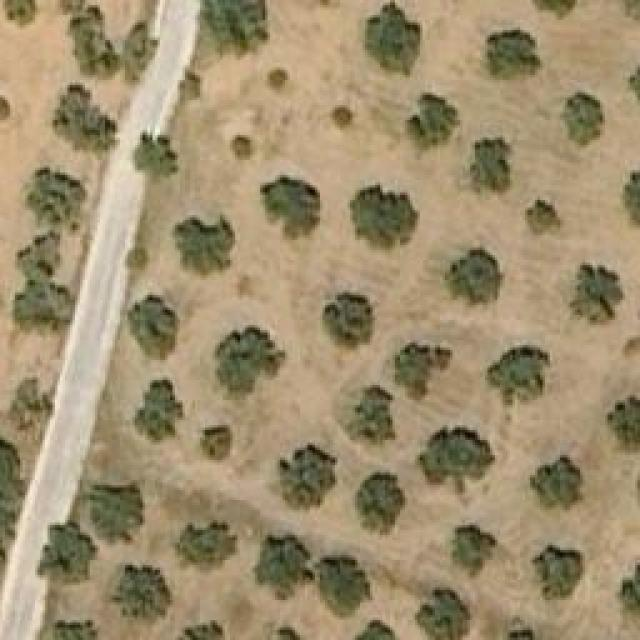Tree: (57, 0, 157, 82), (417, 425, 495, 495), (215, 325, 285, 400), (53, 82, 118, 150), (350, 185, 420, 248), (260, 173, 320, 243), (365, 0, 420, 75), (23, 168, 88, 231), (255, 532, 315, 600), (488, 343, 551, 406), (280, 442, 338, 510), (388, 343, 453, 403), (173, 218, 236, 278), (38, 520, 98, 583), (13, 282, 76, 340), (133, 377, 186, 445), (170, 520, 238, 573), (0, 435, 28, 560), (570, 263, 625, 326), (128, 295, 181, 358), (90, 483, 145, 543), (405, 92, 460, 150), (110, 565, 170, 618), (205, 0, 268, 50), (355, 473, 405, 536), (450, 245, 503, 303), (315, 555, 370, 610), (323, 290, 373, 350), (345, 385, 395, 445), (533, 545, 583, 603), (530, 455, 583, 508), (8, 376, 61, 428), (488, 28, 543, 78), (415, 590, 470, 640), (612, 135, 640, 230), (450, 525, 498, 580), (560, 93, 605, 148), (470, 135, 510, 193), (607, 395, 640, 452), (20, 235, 60, 280), (138, 135, 178, 175), (525, 198, 565, 238), (193, 425, 233, 463), (617, 560, 640, 617), (173, 620, 226, 640), (350, 620, 403, 640), (50, 620, 98, 640), (328, 108, 361, 131), (5, 0, 35, 25), (230, 135, 255, 163), (273, 625, 316, 640), (265, 68, 288, 93), (620, 0, 640, 22)
